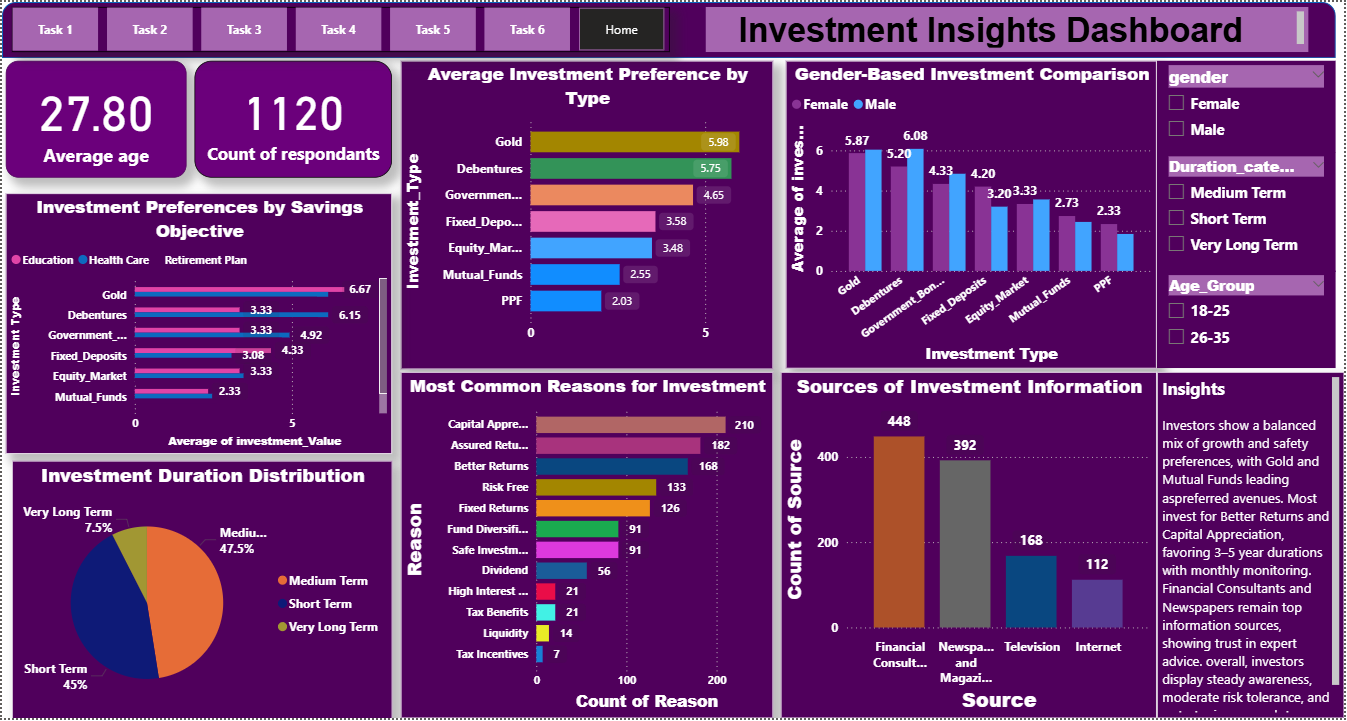

This screenshot's page, from the dashboard's own definition file:
{"tool":"powerbi","page":{"name":"Home","canvas":[1479,790],"ordinal":6},"visuals":[{"type":"shape","box":[0,0,1469.6,62],"z":0},{"type":"textbox","box":[775.4,5.5,663.9,49.6],"z":1000},{"type":"card","fields":{"Values":["Avg(Data_set 2.age)"]},"box":[4,64.5,198.8,129],"z":2000},{"type":"card","fields":{"Values":["CountNonNull(Data_set 2.gender)"]},"box":[212.3,64.5,217.7,129],"z":3000},{"type":"clusteredBarChart","title":"Average Investment Preference by Type","fields":{"Category":["Data_set 2.investment_type"],"Y":["Avg(Data_set 2.investment_Value)"]},"box":[439.4,64.7,410.5,340.2],"z":4000},{"type":"lineClusteredColumnComboChart","title":"Gender-Based Investment Comparison","fields":{"Category":["Data_set 2.investment_type"],"Y":["Avg(Data_set 2.investment_Value)"],"Series":["Data_set 2.gender"]},"box":[863.6,64.7,409.1,338.8],"z":5000},{"type":"clusteredBarChart","title":"Investment Preferences by Savings Objective","fields":{"Category":["Data_set 2.investment_type"],"Series":["Data_set 2.savings_objectives"],"Y":["Avg(Data_set 2.investment_Value)"]},"box":[4,210.9,425.9,287.5],"z":6000},{"type":"pieChart","title":"Investment Duration Distribution","fields":{"Category":["Data_set 2.Duration_category"],"Y":["CountNonNull(Data_set 2.Duration_category)"]},"box":[10.7,505.2,419.2,284.8],"z":7000},{"type":"clusteredBarChart","title":"Most Common Reasons for Investment","fields":{"Category":["Data_set 2.Reason"],"Y":["CountNonNull(Data_set 2.Reason)"]},"box":[439.4,407.7,410.5,381.5],"z":8000},{"type":"clusteredColumnChart","title":"Sources of Investment Information","fields":{"Category":["Data_set 2.Source"],"Y":["CountNonNull(Data_set 2.Source)"]},"box":[858.1,407.7,414.6,381.5],"z":9000},{"type":"slicer","fields":{"Values":["Data_set 2.gender"]},"box":[1272.7,64.7,206.6,100.5],"z":10000},{"type":"slicer","fields":{"Values":["Data_set 2.Duration_category"]},"box":[1272.7,165.3,206.6,132.2],"z":11000},{"type":"slicer","fields":{"Values":["Data_set 2.Age_Group"]},"box":[1272.7,296.1,206.6,107.4],"z":12000},{"type":"pageNavigator","box":[11,5.5,724.5,49.6],"z":13000},{"type":"textbox","box":[1272.7,407.7,206.6,381.5],"z":14000}]}

Visuals, with their boxes in screenshot pixels (x1, y1, x2, y2), scaled from the page's 1479x790 canvas onto the 1347x721 screenshot:
shape: 0/0/1338/57
textbox: 706/5/1311/50
card - Avg(Data_set 2.age): 4/59/185/177
card - CountNonNull(Data_set 2.gender): 193/59/392/177
"Average Investment Preference by Type" clusteredBarChart: 400/59/774/370
"Gender-Based Investment Comparison" lineClusteredColumnComboChart: 787/59/1159/368
"Investment Preferences by Savings Objective" clusteredBarChart: 4/192/392/455
"Investment Duration Distribution" pieChart: 10/461/392/720
"Most Common Reasons for Investment" clusteredBarChart: 400/372/774/720
"Sources of Investment Information" clusteredColumnChart: 782/372/1159/720
slicer - Data_set 2.gender: 1159/59/1346/151
slicer - Data_set 2.Duration_category: 1159/151/1346/272
slicer - Data_set 2.Age_Group: 1159/270/1346/368
pageNavigator: 10/5/670/50
textbox: 1159/372/1346/720
